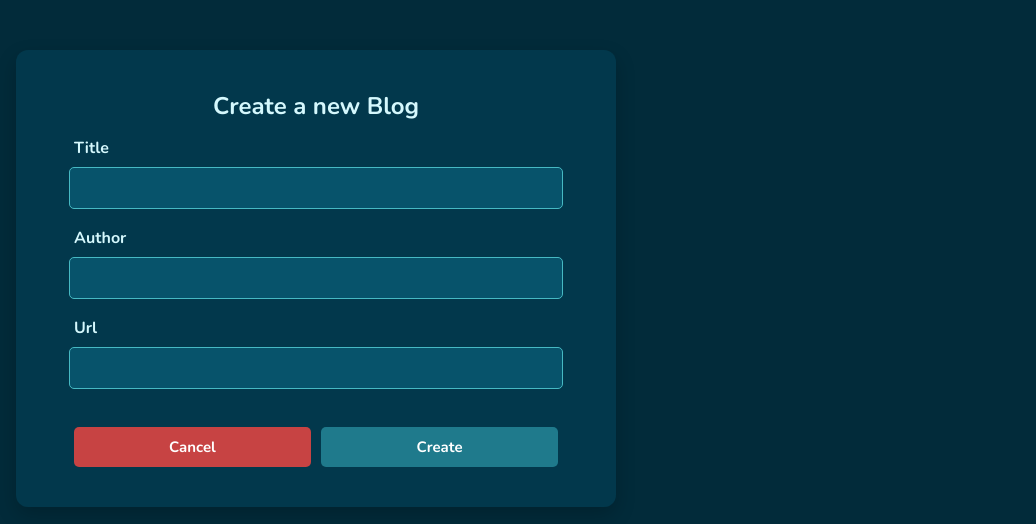
Test case: < BlogForm /> › should create a new blog with the correct data
This screenshot has width=1036, height=524.
Note: user fills the form
Type "Test title" into the field with test id "title" at (316, 188), box [69,167,563,209]
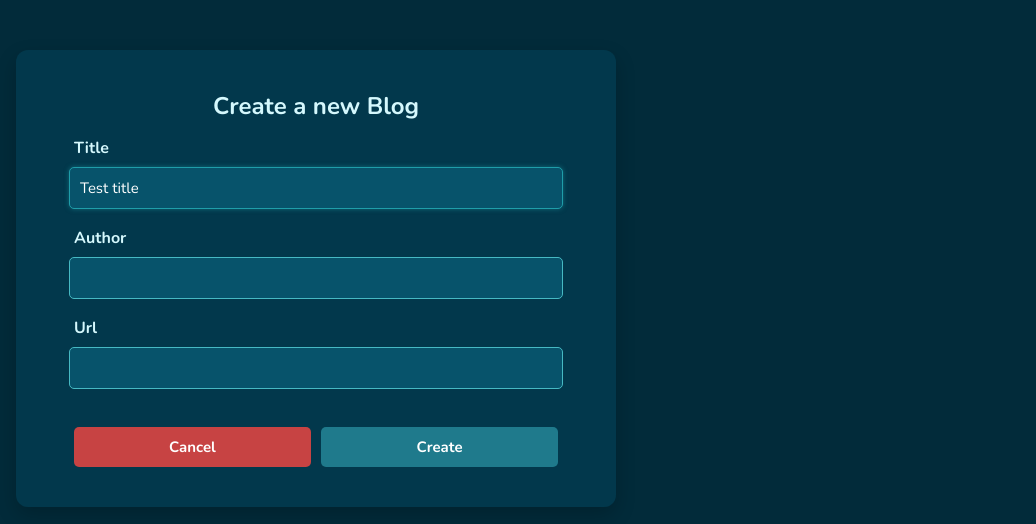
Type "Test author" into the field with test id "author" at (316, 278), box [69,257,563,299]
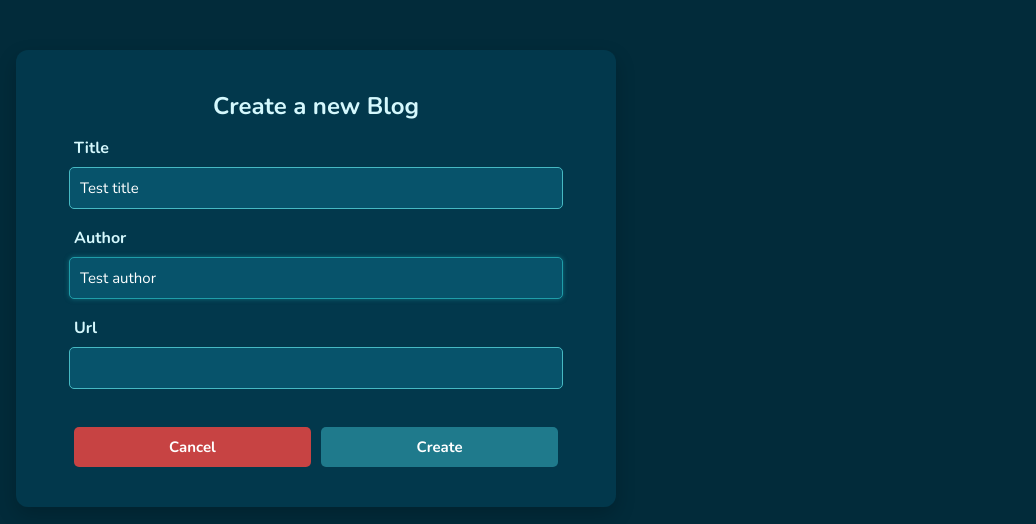
Type "https://test-blog.com" into the field with test id "url" at (316, 368), box [69,347,563,389]
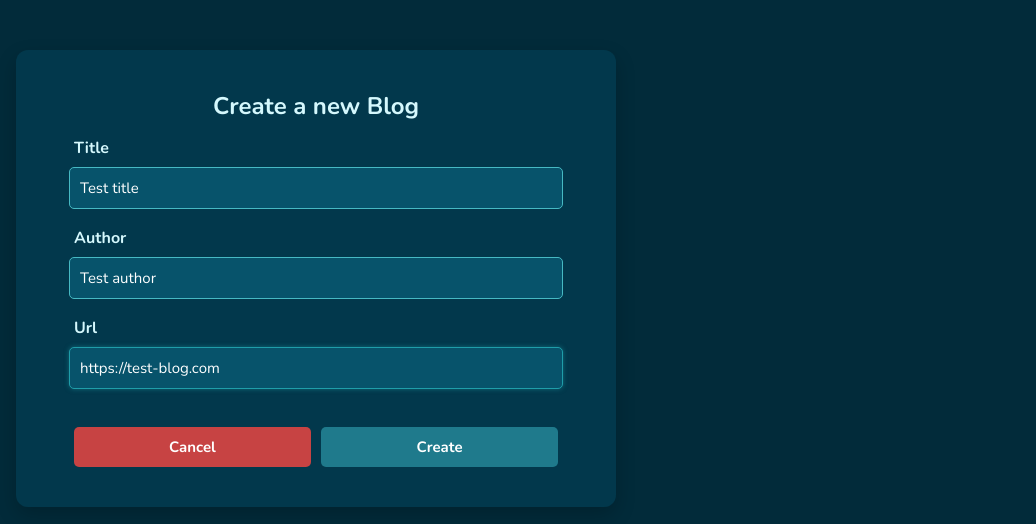
Note: user clicks the create button
Click the button "Create" at (440, 447), box [321,427,558,467]
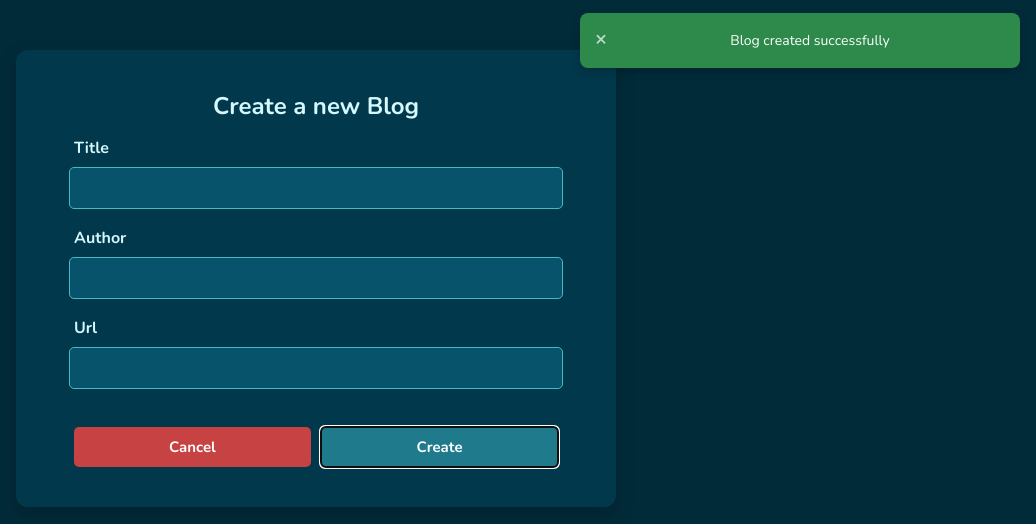
Expected: the element with test id "toast-message" is shown, [580,13,1020,68]
